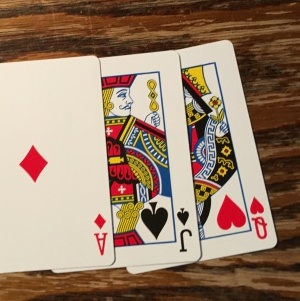card: (103, 52, 203, 264), (187, 42, 279, 259)
